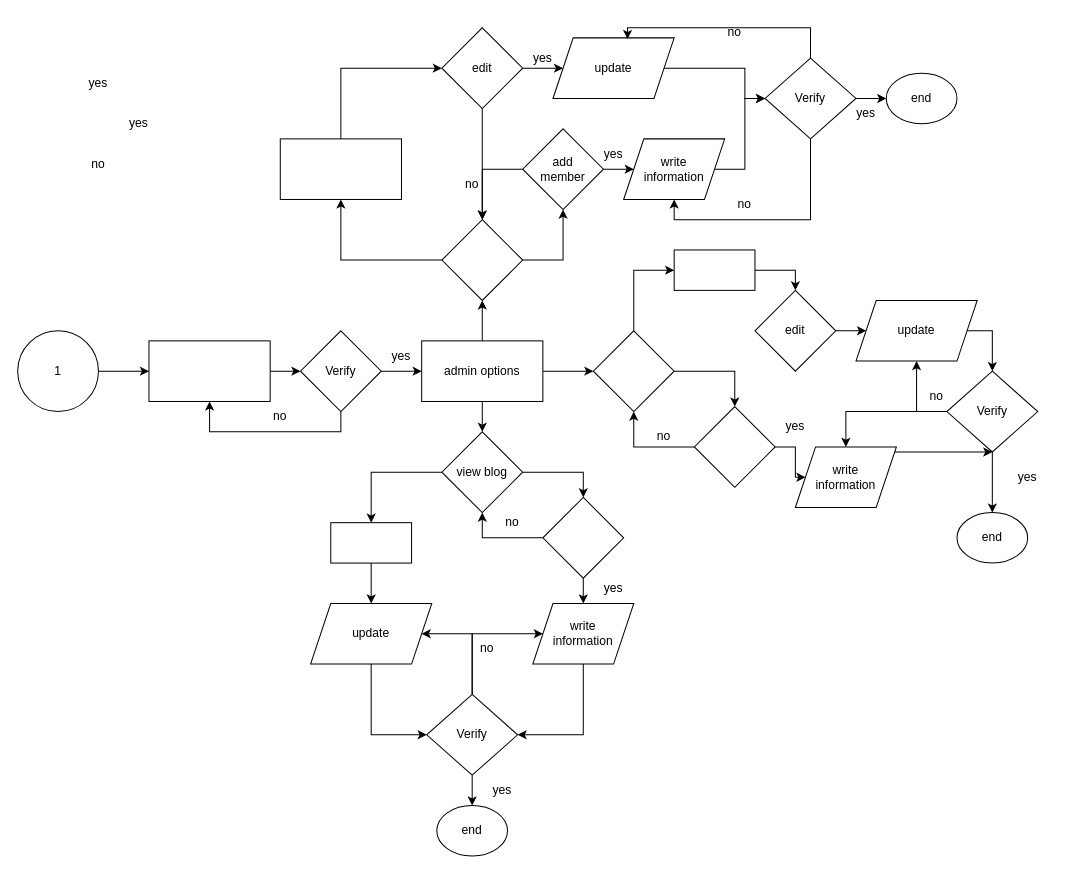
Image size: 1076x874. Some labels were removed from this diagram. Here are the shapes that lost their labels. From the top down, the box of each, then its label:
(279, 138, 401, 199): select member
(441, 219, 523, 300): view members
(673, 249, 755, 290): select news and events
(148, 340, 270, 401): login
(592, 330, 674, 412): view news and events
(693, 406, 775, 487): add news and events
(330, 522, 412, 563): select blog
(542, 496, 624, 578): add blog
